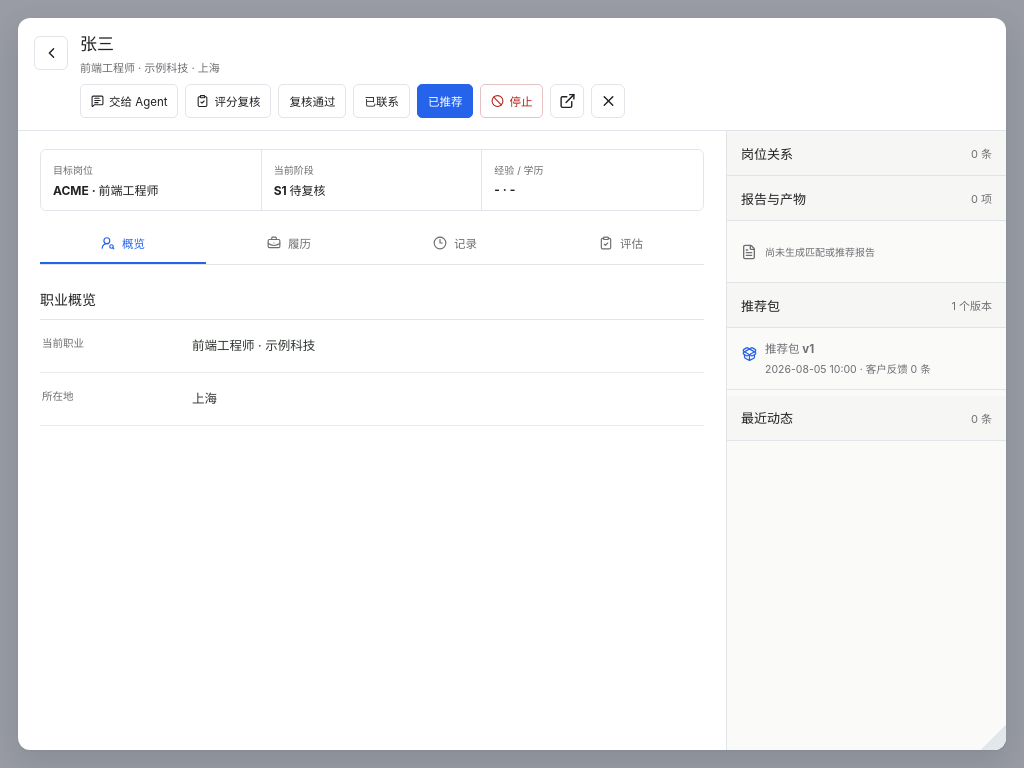
Test: 版本化推荐包（recommendation-packages） › 反馈写入成功不等待悬挂的推荐包与候选人详情回读
The width and height of the screenshot is (1024, 768).
Click the button with aria-label "查看推荐包 v1" at (787, 349), box left=727, top=328, right=1006, bottom=390
(page scrolled)
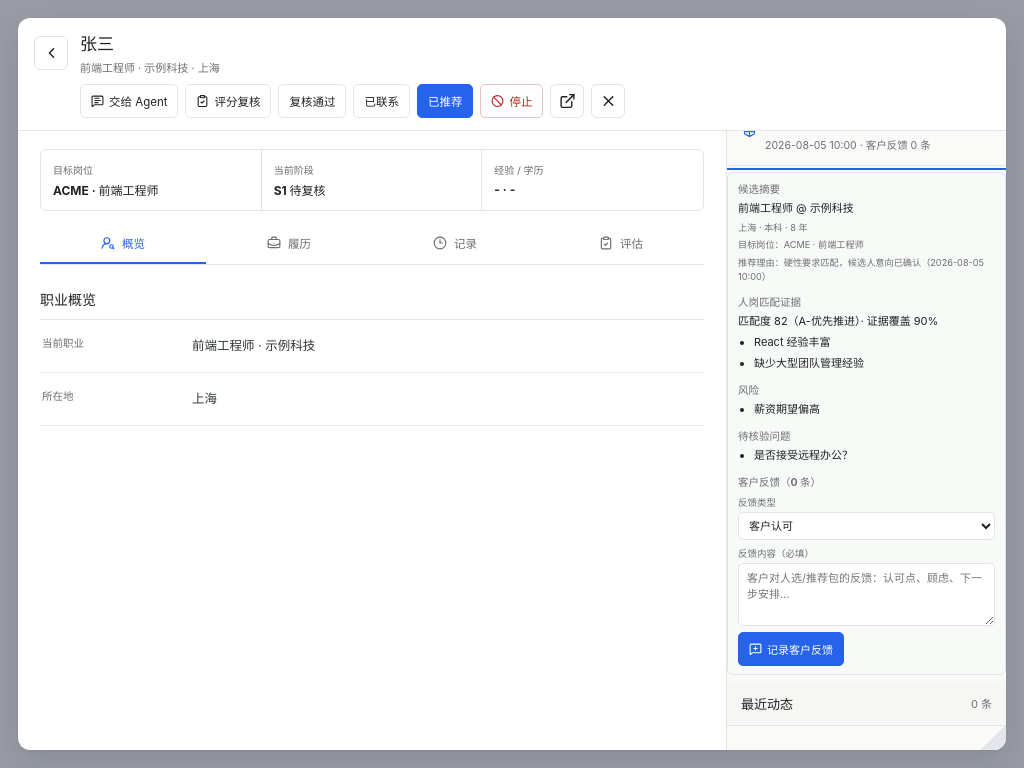
Expected: the heading "候选摘要" is shown, left=738, top=183, right=780, bottom=196
Type "客户认可专业背景" into the text box labelled "反馈内容" at (866, 595), box left=738, top=563, right=995, bottom=626
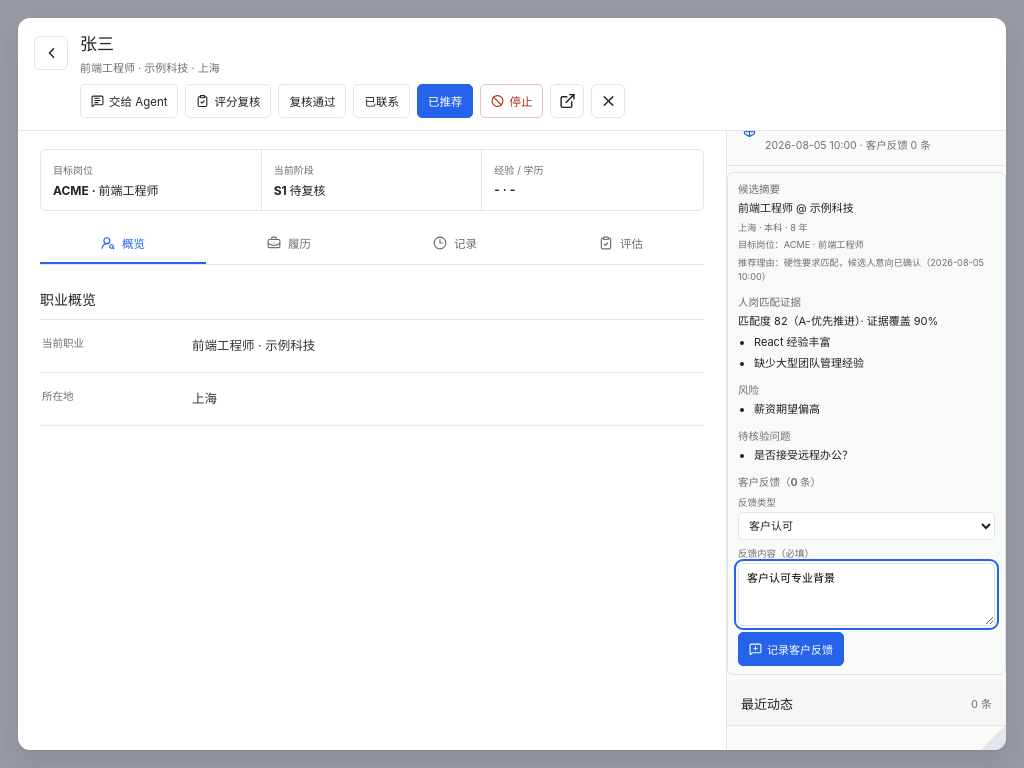
Click the button "记录客户反馈" at (791, 650), box left=738, top=632, right=844, bottom=666
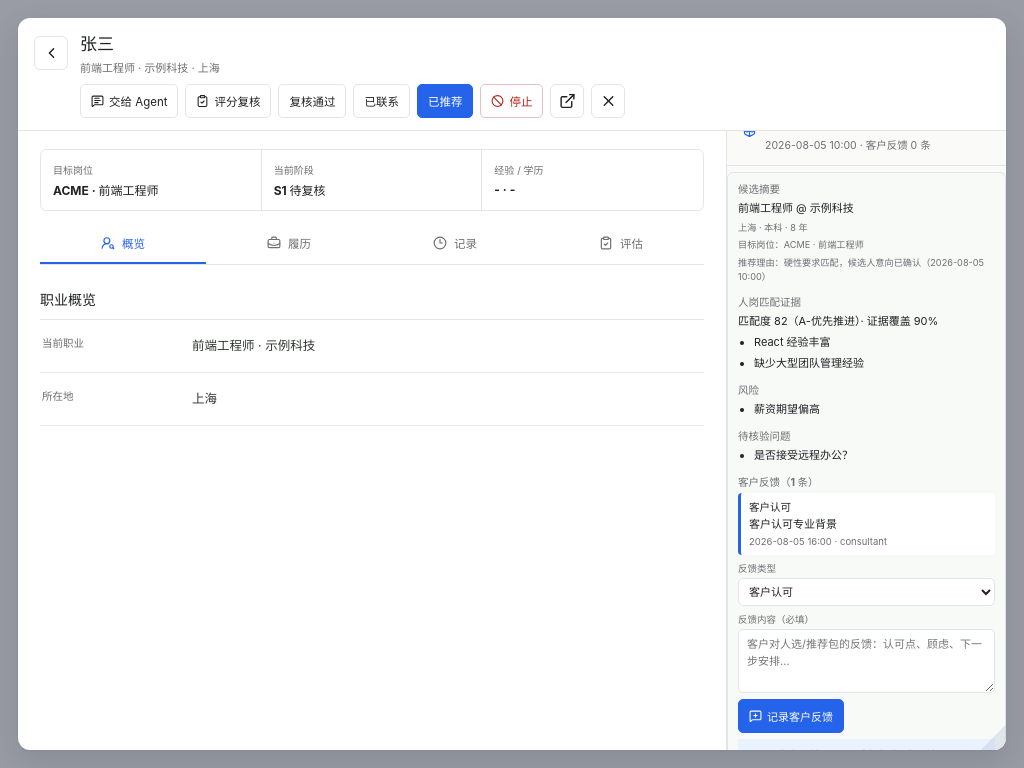
Expected: the button "记录客户反馈" is enabled, left=738, top=699, right=844, bottom=733
Expected: the heading "客户反馈（1 条）" is shown, left=738, top=476, right=818, bottom=489
Expected: the text "客户认可专业背景" is shown, left=749, top=517, right=837, bottom=531
